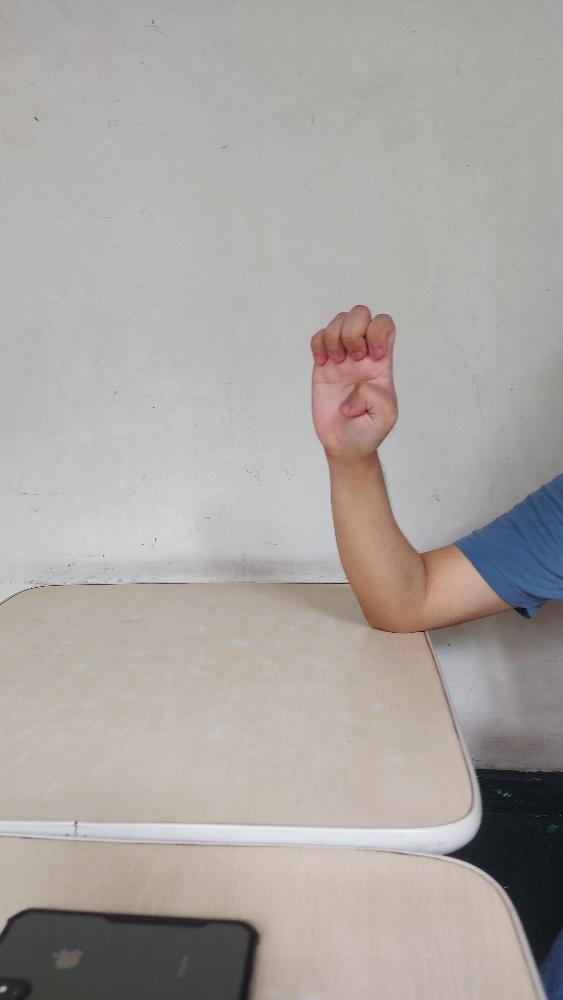e: (310, 304, 397, 455)
